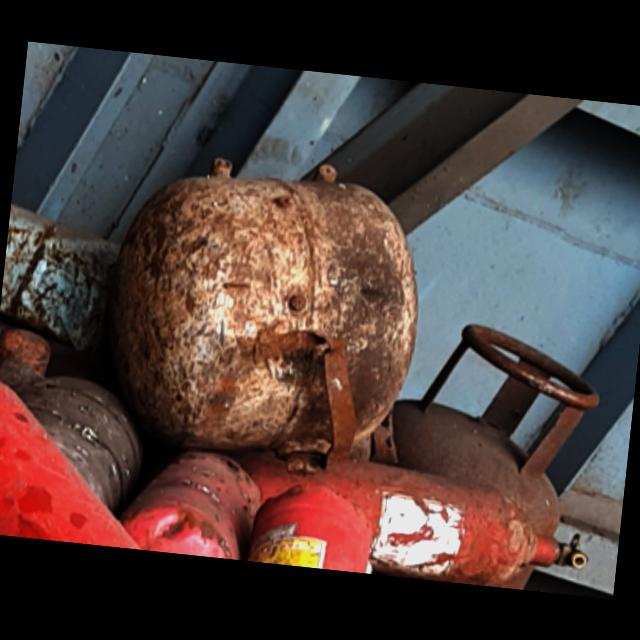Cylinders: (386, 327, 601, 546)
